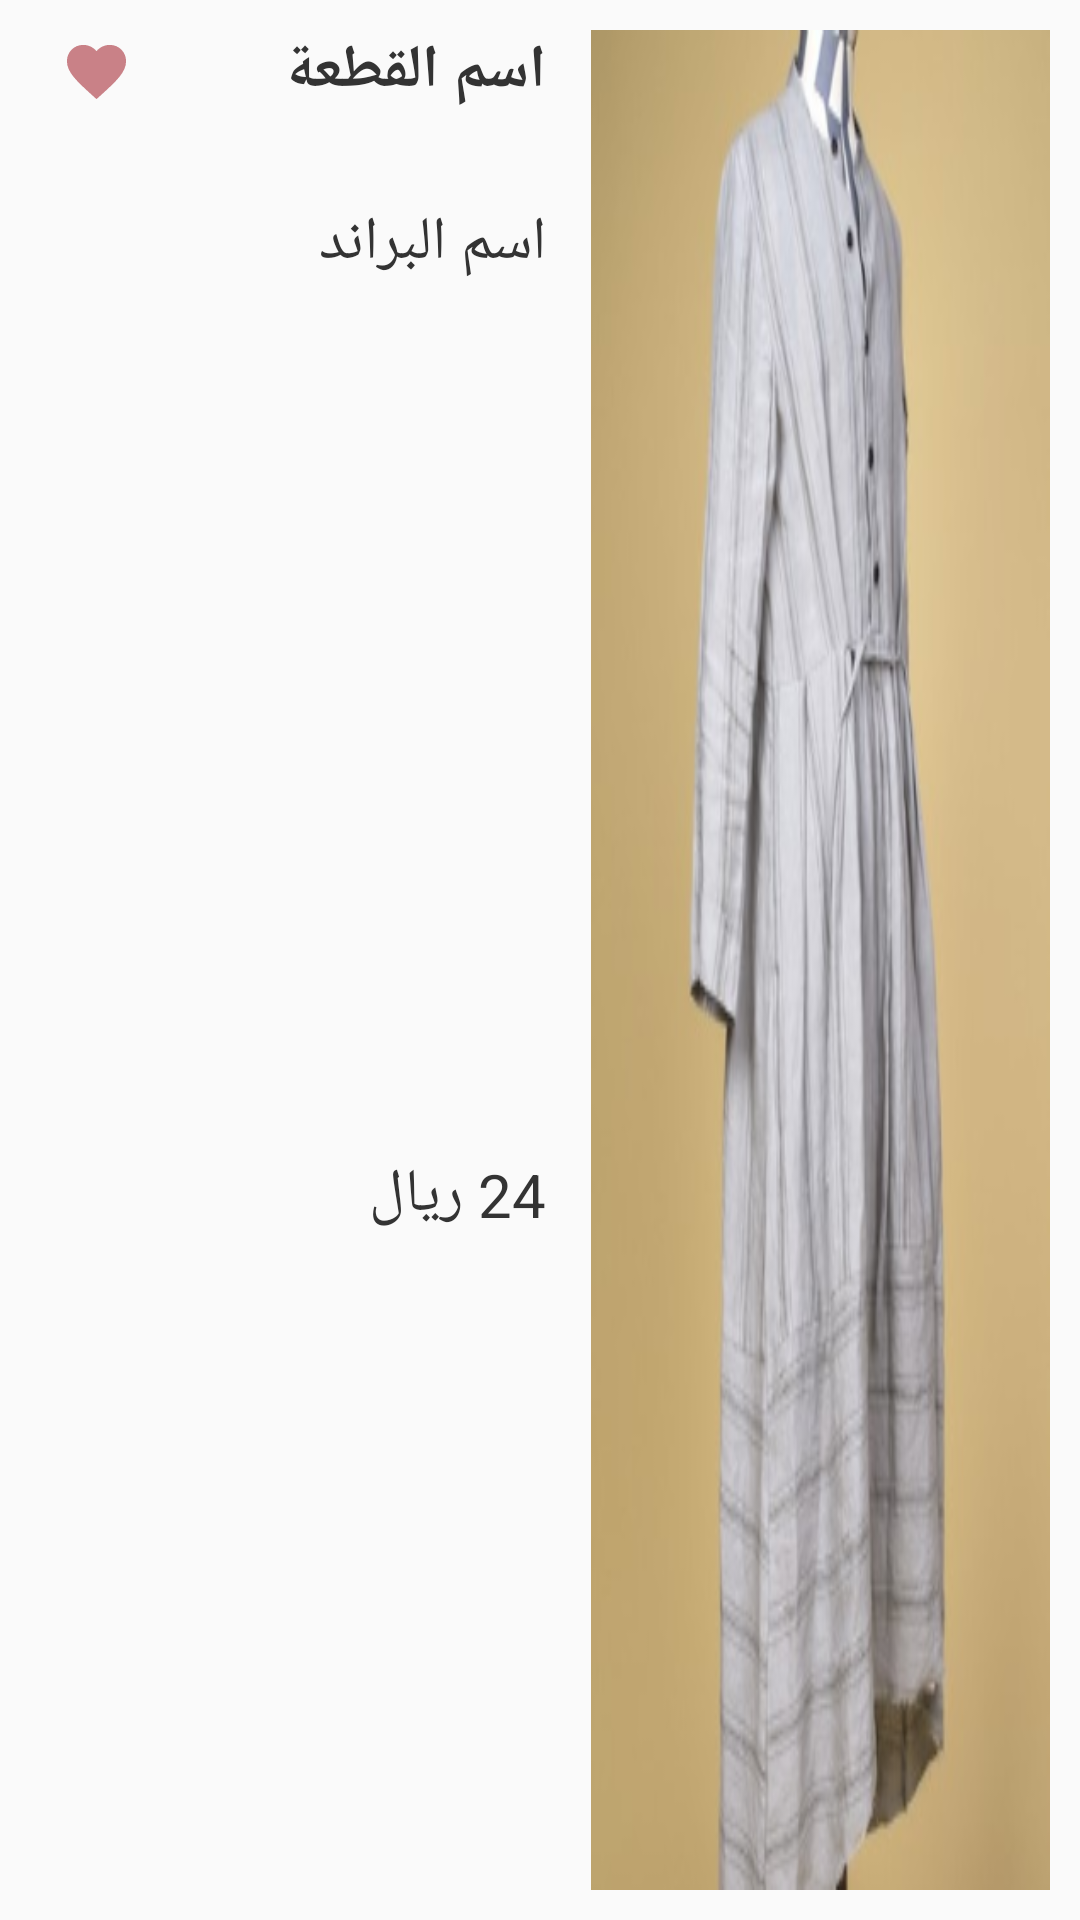

Icons on this 1080×1920 Android screen, each with the point to tap as (x=x, y=y):
favorite: (x=96, y=72)
